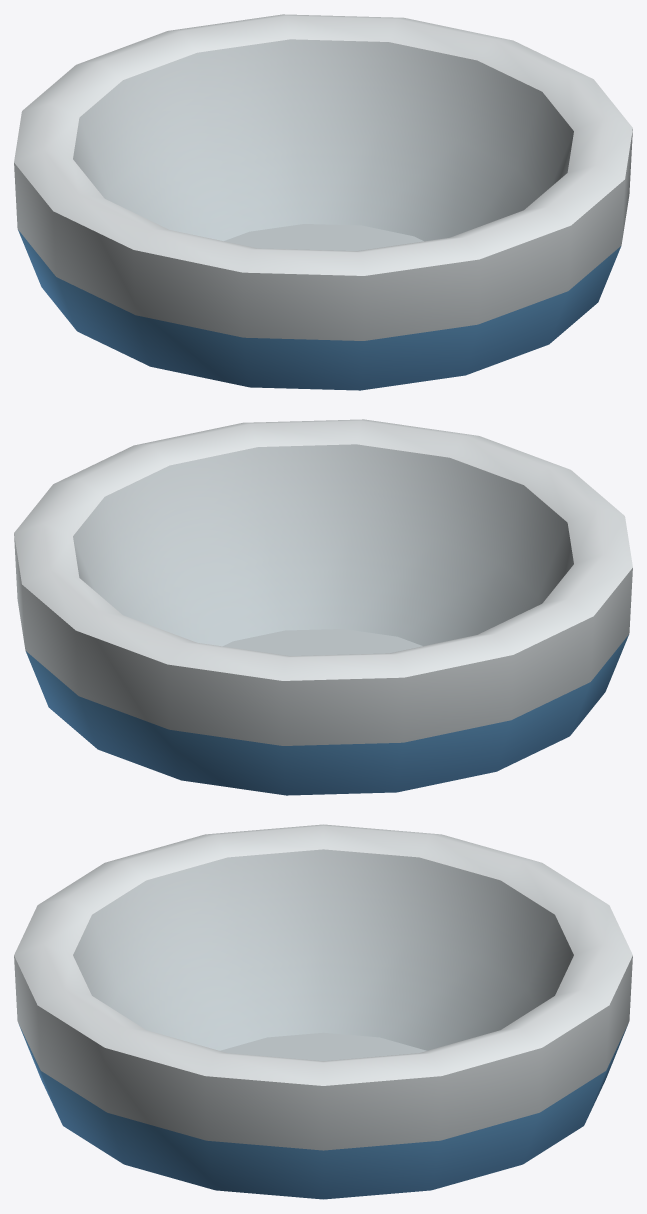
File: icecream_bowl.obj
3 renders of one model, top to bottom at view 1: azimuth 30°, elevation 25°; view 2: azimuth 150°, elevation 25°; view 3: azimuth 270°, elevation 25°, orthographic.
Parts seen in each view (by area): view 1: icecream_bowl_Sphere.055; view 2: icecream_bowl_Sphere.055; view 3: icecream_bowl_Sphere.055.
Part boxes in pixels (x1,y1,x2,y2): icecream_bowl_Sphere.055: (14, 14, 632, 390); icecream_bowl_Sphere.055: (14, 419, 632, 795); icecream_bowl_Sphere.055: (14, 824, 632, 1199).
Bounding box in the file's own units: 0.95 × 0.3 × 0.95.
1 material, 1 textured.
